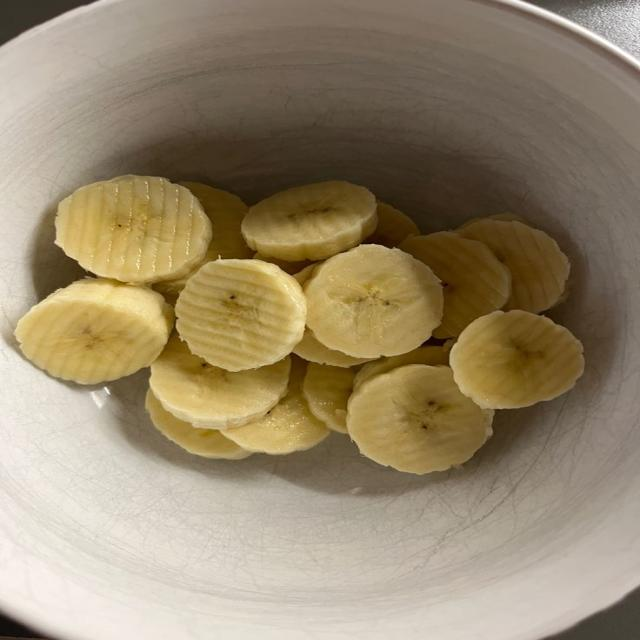banana slice: (15, 278, 173, 384), (56, 177, 212, 283), (347, 365, 493, 474), (305, 244, 442, 358), (176, 260, 306, 371), (450, 310, 584, 408), (150, 335, 290, 428), (154, 182, 253, 302), (400, 232, 511, 337), (242, 181, 377, 261), (223, 357, 330, 454), (458, 220, 569, 313), (146, 389, 251, 459), (354, 346, 449, 389), (303, 363, 354, 433), (294, 329, 374, 367), (294, 329, 370, 367), (365, 201, 419, 247), (251, 252, 314, 275), (457, 213, 532, 230), (293, 263, 319, 286)
